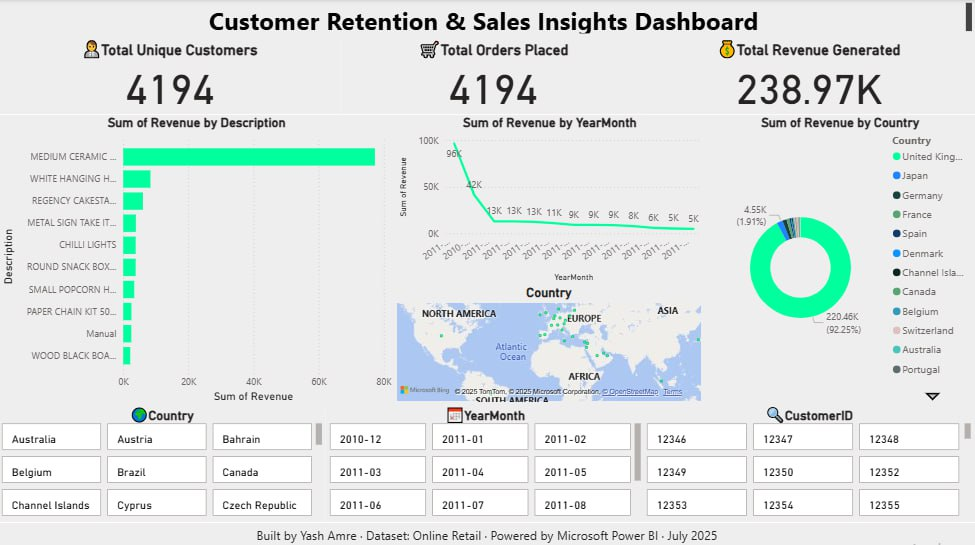

Layout of this report page (visuals, bound fields, positions):
{"tool":"powerbi","page":{"name":"Page 1","canvas":[1280,720],"ordinal":0},"visuals":[{"type":"lineChart","fields":{"Category":["Online Retail.YearMonth"],"Y":["Sum(Online Retail.Revenue)"]},"box":[520.2,151.3,405.6,223.3],"z":0},{"type":"card","title":"💰Total Revenue Generated","fields":{"Values":["Sum(Online Retail.Revenue)"]},"box":[844.9,50.4,435.1,100.8],"z":1000},{"type":"card","title":"🛒Total Orders Placed","fields":{"Values":["Count(Online Retail.InvoiceNo)"]},"box":[450.2,50.4,396.4,100.8],"z":2000},{"type":"card","title":"👨💼Total Unique Customers","fields":{"Values":["CountNonNull(Online Retail.CustomerID)"]},"box":[0,50.4,450.2,100.8],"z":3000},{"type":"barChart","fields":{"Category":["Online Retail.Description"],"Y":["Sum(Online Retail.Revenue)"]},"box":[0,151.3,520.2,380.6],"z":4000},{"type":"donutChart","fields":{"Category":["Online Retail.Country"],"Y":["Sum(Online Retail.Revenue)"]},"box":[925.7,151.3,354.1,380.6],"z":5000},{"type":"map","fields":{"Category":["Online Retail.Country"]},"box":[517.2,374.7,408.5,157.2],"z":6000},{"type":"advancedSlicerVisual","title":"🌍Country","fields":{"Values":["Online Retail.Country"]},"box":[0,531.9,429.1,152.8],"z":7000},{"type":"advancedSlicerVisual","title":"📅YearMonth","fields":{"Values":["Online Retail.YearMonth"]},"box":[429.1,531.9,417.3,152.8],"z":8000},{"type":"advancedSlicerVisual","title":"🔍CustomerID","fields":{"Values":["Online Retail.CustomerID"]},"box":[844.9,531.9,434.9,152.8],"z":9000},{"type":"textbox","box":[0,0,1280,50.4],"z":10000},{"type":"textbox","box":[0,685.4,1280,35.3],"z":11000}]}

Visuals, with their boxes in screenshot pixels (x1, y1, x2, y2), scaled from the page's 1280x720 canvas onto the 975x545 screenshot:
lineChart - Online Retail.YearMonth x Sum(Online Retail.Revenue): locate(396, 115, 705, 284)
"💰Total Revenue Generated" card: locate(644, 38, 974, 114)
"🛒Total Orders Placed" card: locate(343, 38, 645, 114)
"👨💼Total Unique Customers" card: locate(0, 38, 343, 114)
barChart - Online Retail.Description x Sum(Online Retail.Revenue): locate(0, 115, 396, 403)
donutChart - Online Retail.Country x Sum(Online Retail.Revenue): locate(705, 115, 974, 403)
map - Online Retail.Country: locate(394, 284, 705, 403)
"🌍Country" advancedSlicerVisual: locate(0, 403, 327, 518)
"📅YearMonth" advancedSlicerVisual: locate(327, 403, 645, 518)
"🔍CustomerID" advancedSlicerVisual: locate(644, 403, 974, 518)
textbox: locate(0, 0, 974, 38)
textbox: locate(0, 519, 974, 544)
